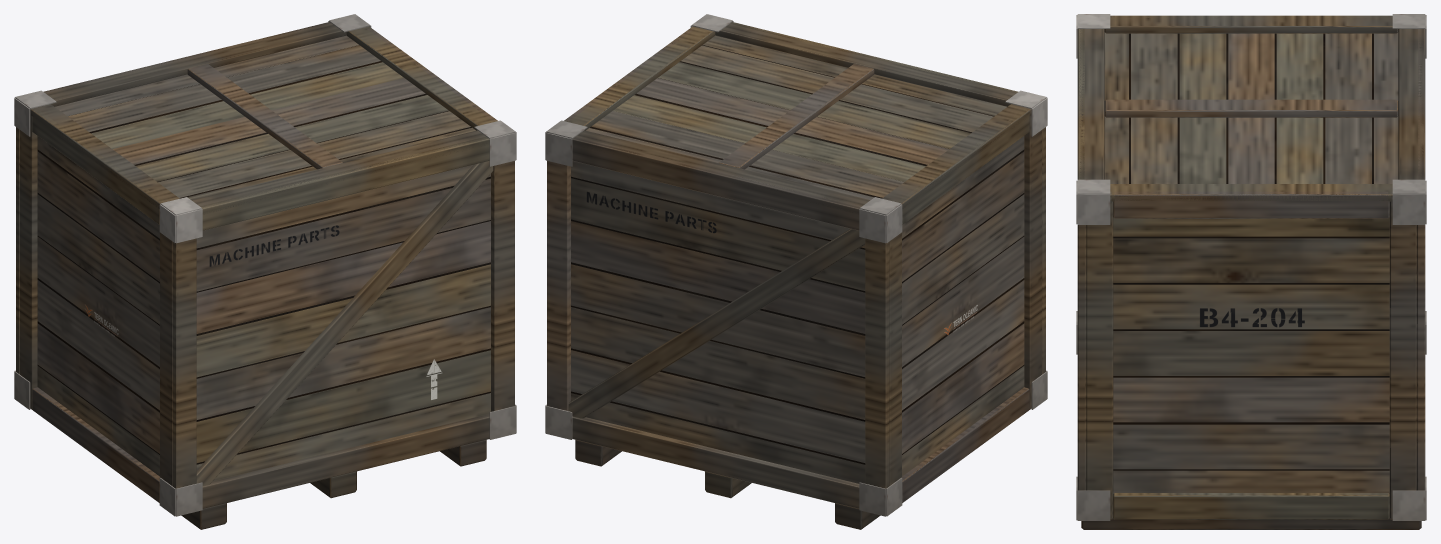
File: crate_wood.glb
The picture shows the model from 3 angles, left to right: view 1: azimuth 30°, elevation 25°; view 2: azimuth 150°, elevation 25°; view 3: azimuth 270°, elevation 25°; orthographic projection. The views are drawn at different scales.
Parts seen in each view (by area): view 1: crate_wood; view 2: crate_wood; view 3: crate_wood.
Part boxes in pixels (bbox=[...]): crate_wood: bbox=[14, 14, 516, 529]; crate_wood: bbox=[545, 14, 1047, 529]; crate_wood: bbox=[1076, 14, 1426, 529].
Bounding box in the file's own units: 1.11 × 1 × 0.906.
7 materials, 7 textured.
